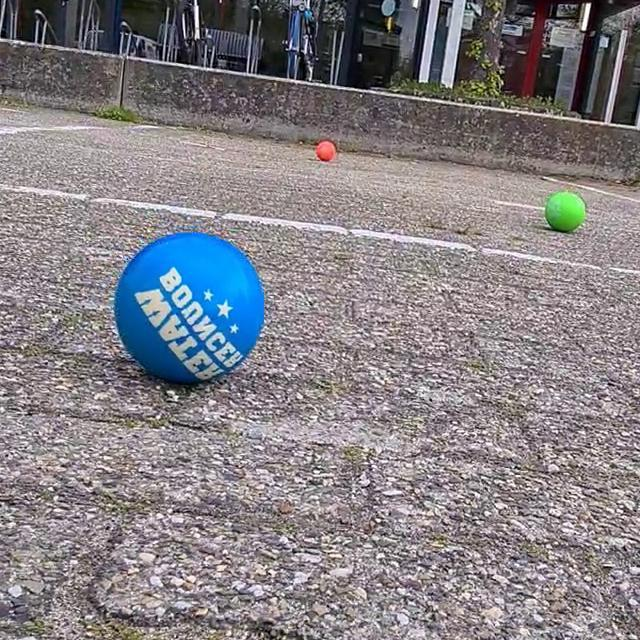ball: (542, 189, 590, 237), (309, 137, 339, 164)
